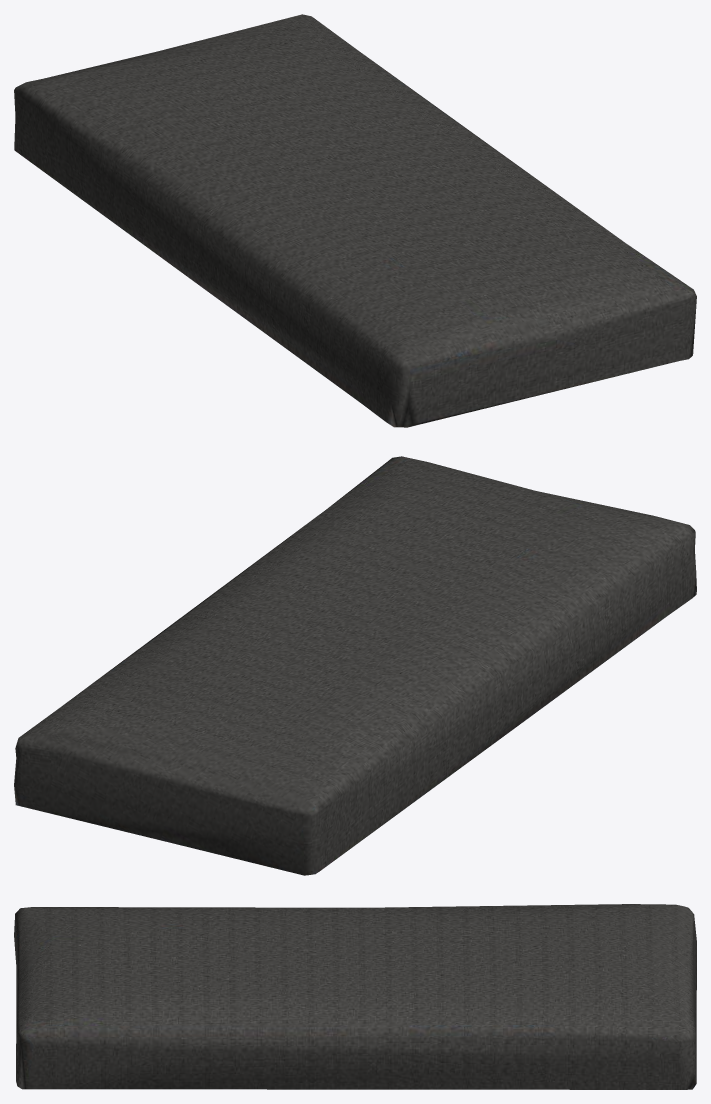
File: 09 - RANDÅSEN Bonnell spring mattress base - medium firmBremanger grey 90x200x23 cm.glb
3 views of the same model, one above another, from view 1: azimuth 30°, elevation 25°; view 2: azimuth 150°, elevation 25°; view 3: azimuth 270°, elevation 25° (orthographic). The views are drawn at different scales.
Visible parts, largest first — view 1: ASY_ART_70597586_S01_NV01; view 2: ASY_ART_70597586_S01_NV01; view 3: ASY_ART_70597586_S01_NV01.
Boxes of the visible parts, left/top/right/bottom form: ASY_ART_70597586_S01_NV01: left=14, top=14, right=696, bottom=427; ASY_ART_70597586_S01_NV01: left=14, top=456, right=696, bottom=875; ASY_ART_70597586_S01_NV01: left=14, top=904, right=696, bottom=1089.
Bounding box in the file's own units: 0.9157 × 0.2438 × 2.02.
Materials: 1 (1 with a texture image).
